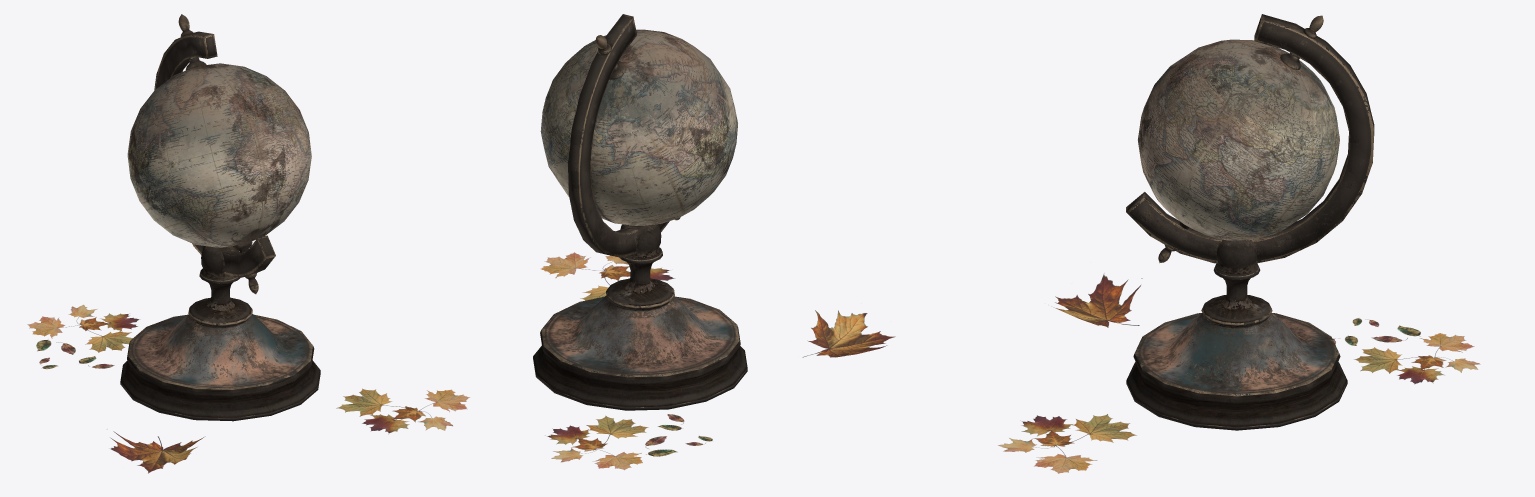
File: vintage_globe.glb
3 renders of one model, left to right at view 1: azimuth 30°, elevation 25°; view 2: azimuth 150°, elevation 25°; view 3: azimuth 270°, elevation 25°, orthographic. The views are drawn at different scales.
Visible parts, largest first — view 1: Object_3, Object_2; view 2: Object_3, Object_2; view 3: Object_3, Object_2.
Part boxes in pixels (x1=…): Object_3: x1=120, y1=14, x2=320, y2=421; Object_2: x1=27, y1=305, x2=469, y2=473; Object_3: x1=533, y1=14, x2=747, y2=410; Object_2: x1=541, y1=252, x2=895, y2=470; Object_3: x1=1126, y1=14, x2=1374, y2=430; Object_2: x1=998, y1=273, x2=1480, y2=473.
Bounding box in the file's own units: 0.7909 × 0.6592 × 0.8999.
2 materials, 2 textured.
